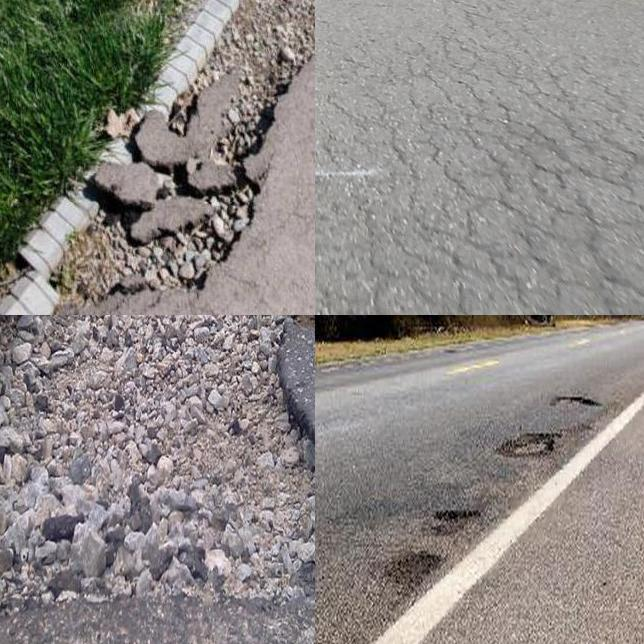Lubang: (0, 315, 315, 607), (383, 549, 436, 583), (503, 433, 561, 463)
Pinggir: (0, 0, 315, 315)
Retak Buaya: (320, 0, 644, 315)
